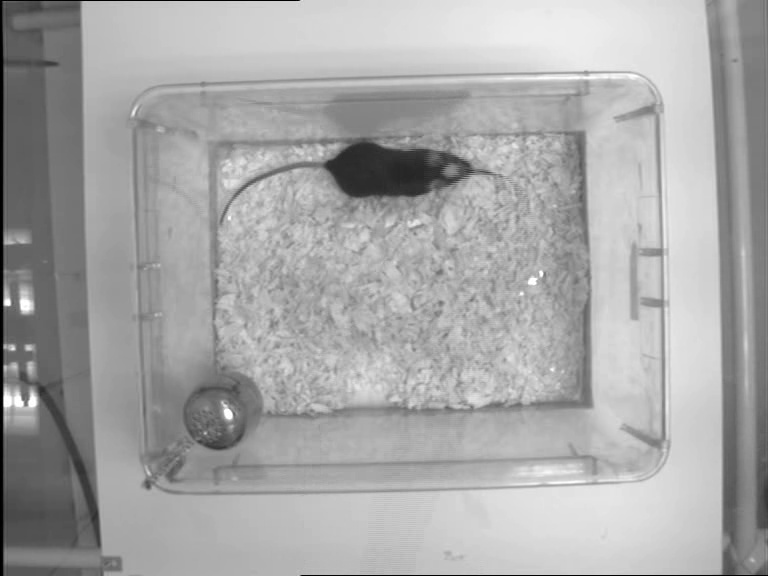mice: (216, 140, 478, 227)
